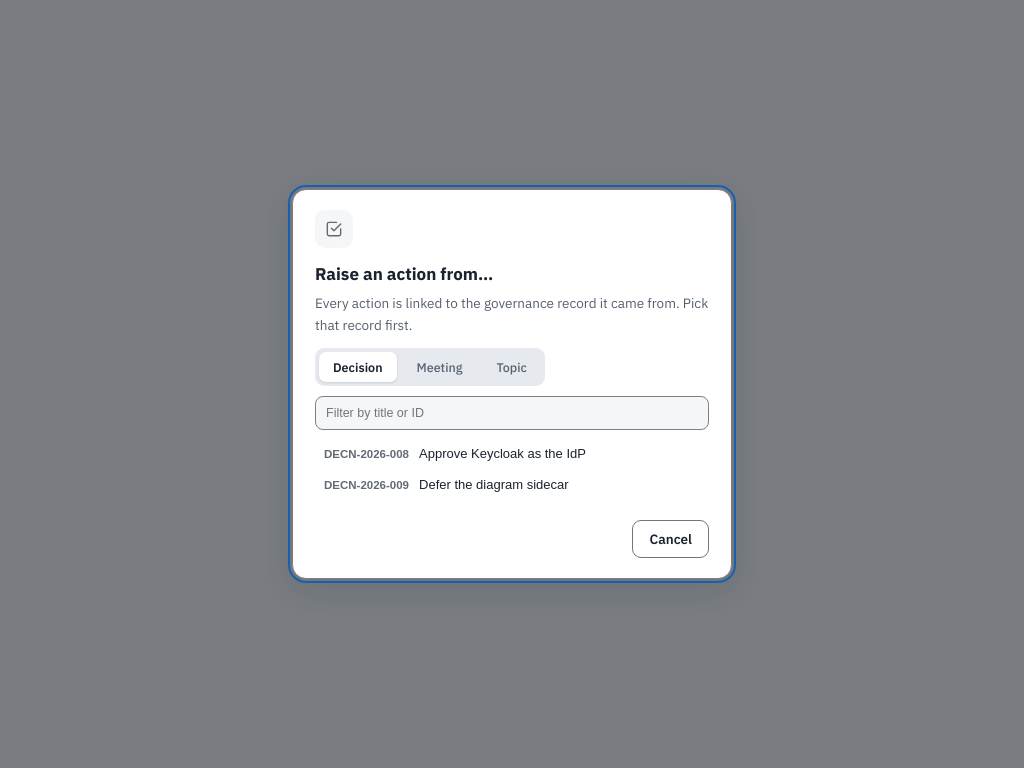
it: RaiseActionFromDialog › filters candidates by title or key
Type "Keycloak" into the search field labelled "Filter by title or ID" at (512, 413), box [315, 396, 709, 430]
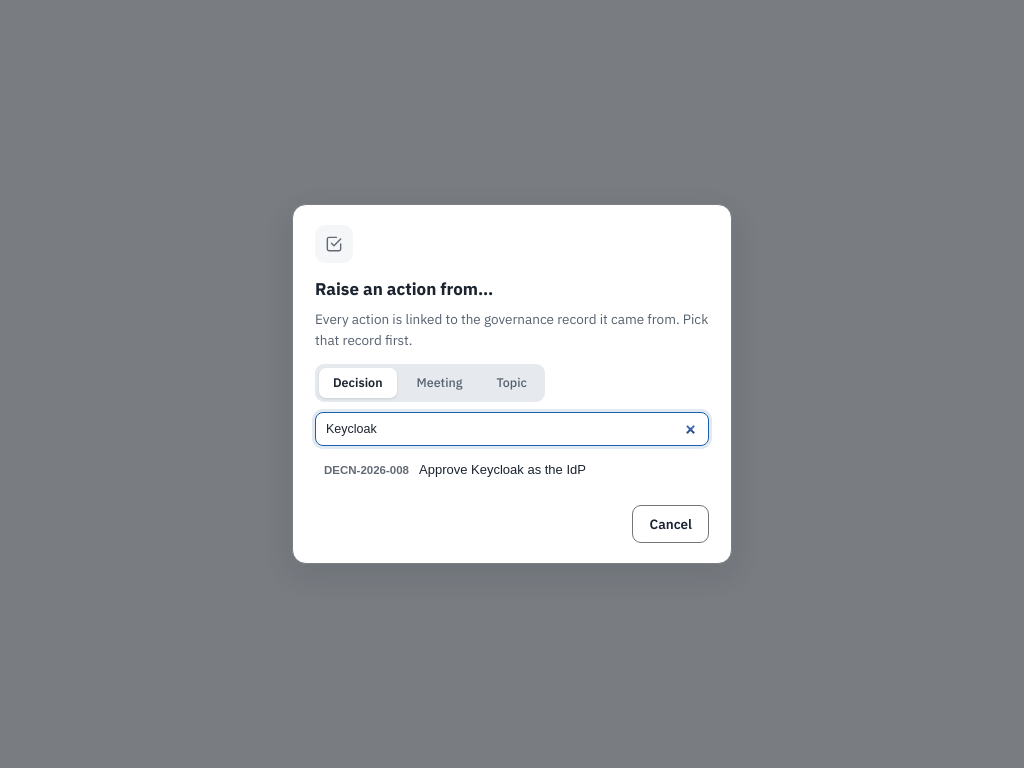
Expected: the button "DECN-2026-008 Approve Keycloak as the IdP" is shown, [315, 454, 709, 485]
Expected: the button "DECN-2026-009" is gone
